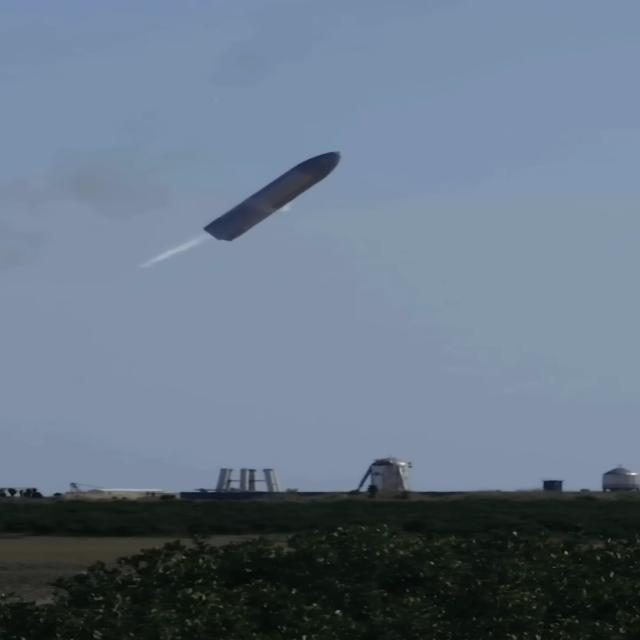missile: (202, 140, 343, 248)
